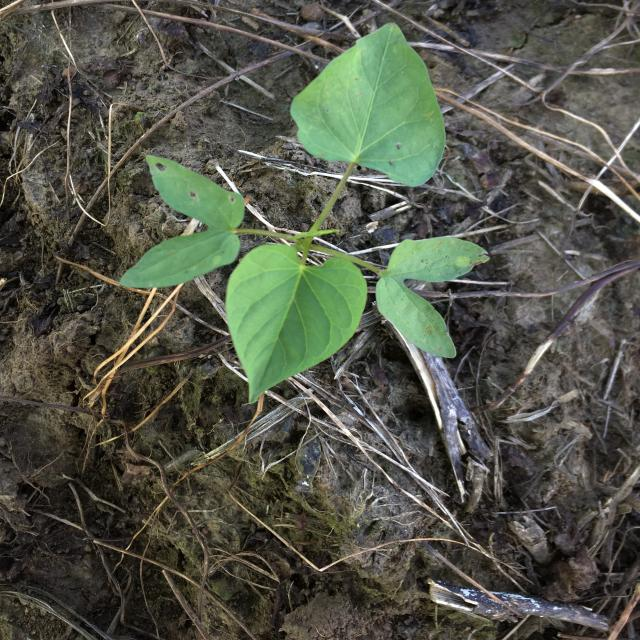MorningGlory: (120, 23, 490, 404)
